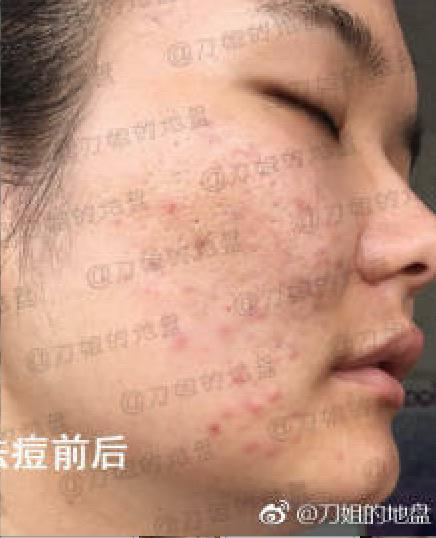fore: (231, 295, 269, 318), (215, 312, 240, 344), (312, 243, 336, 274), (260, 382, 291, 404), (223, 361, 248, 385), (161, 194, 183, 221), (281, 278, 308, 300), (165, 328, 188, 351), (291, 194, 314, 216), (238, 399, 264, 416), (267, 435, 283, 462), (208, 414, 223, 436), (189, 233, 208, 249), (242, 435, 254, 456), (219, 402, 232, 420)
